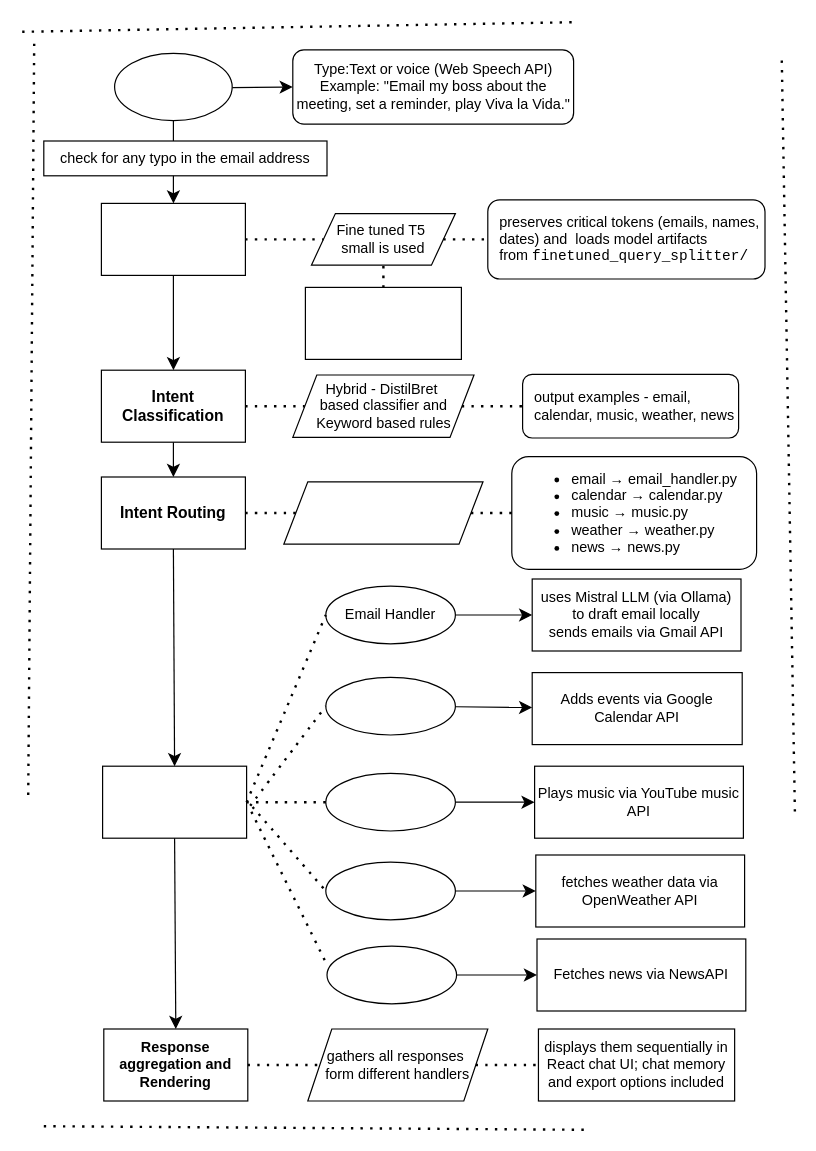
The diagram is 816 pixels wide and 1151 high, and some of its shapes have lost their labels. Here are the shapes that lost their labels. From the top down, the centre of each, then its label:
the point at 172,86: User Input
the point at 172,238: Query Splitting
the point at 382,322: splits multi-intent queries into structured sub-commands
the point at 383,512: routes each classified task to the corresponding handler
the point at 390,705: calendar handler
the point at 174,801: Execution and Response
the point at 390,801: music handler
the point at 390,890: weather handler
the point at 391,974: news handler
